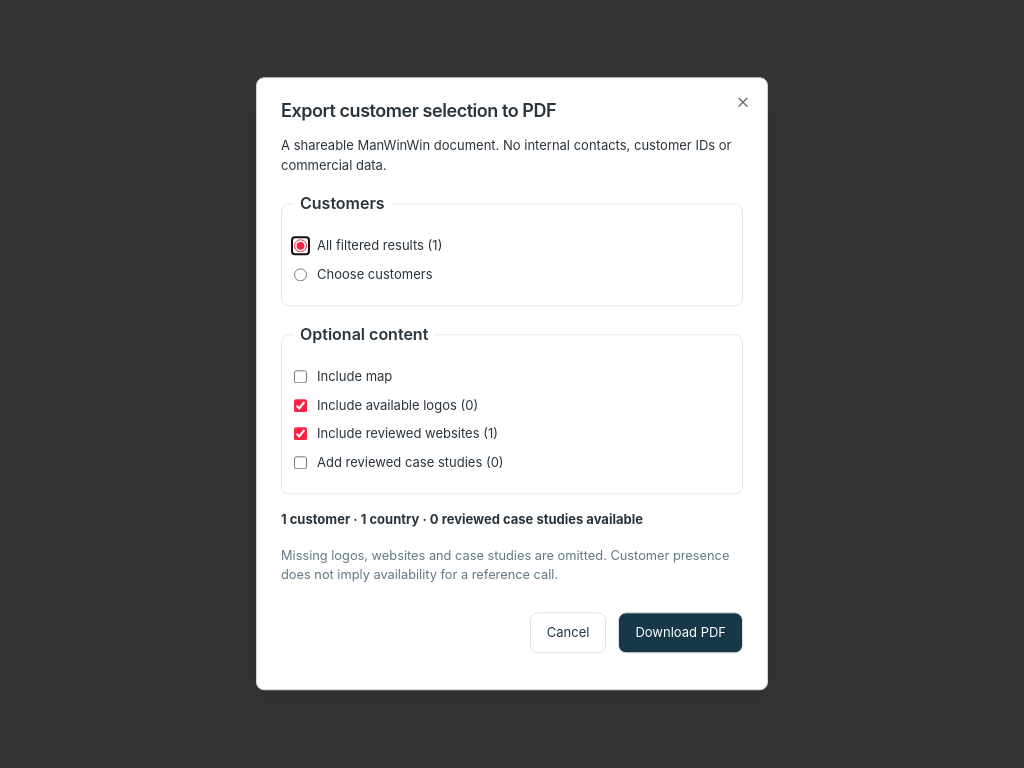
Scenario: Customer PDF export › does not download if permission is revoked while the PDF is being generated
The width and height of the screenshot is (1024, 768).
Click the button "Download PDF" at [681, 633], box [618,612,743,654]
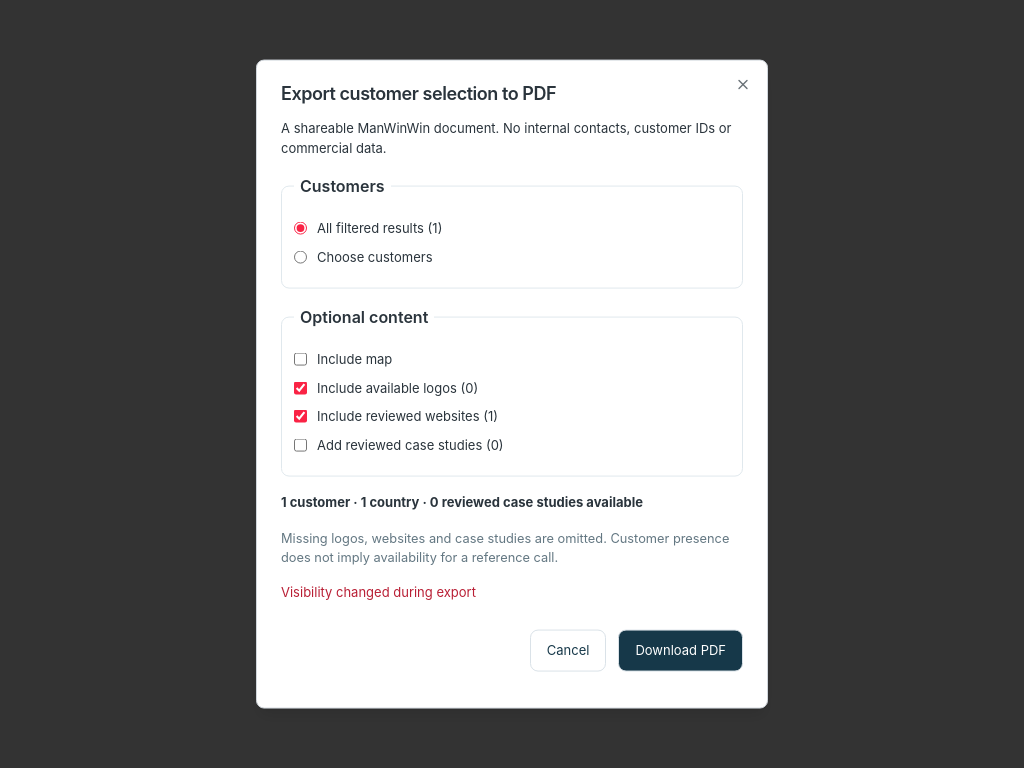
Now the message "Visibility changed during export" is shown, box [281,583,476,599]
